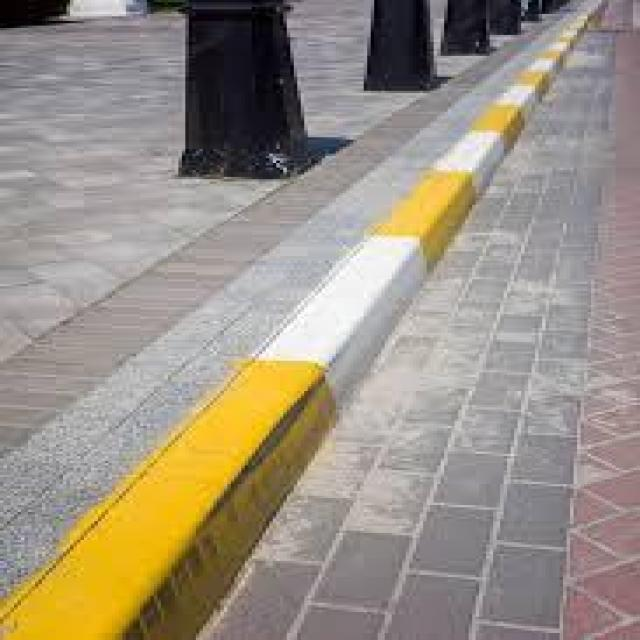curb: (1, 341, 333, 639), (278, 152, 480, 358), (514, 11, 591, 152), (456, 112, 535, 178)
